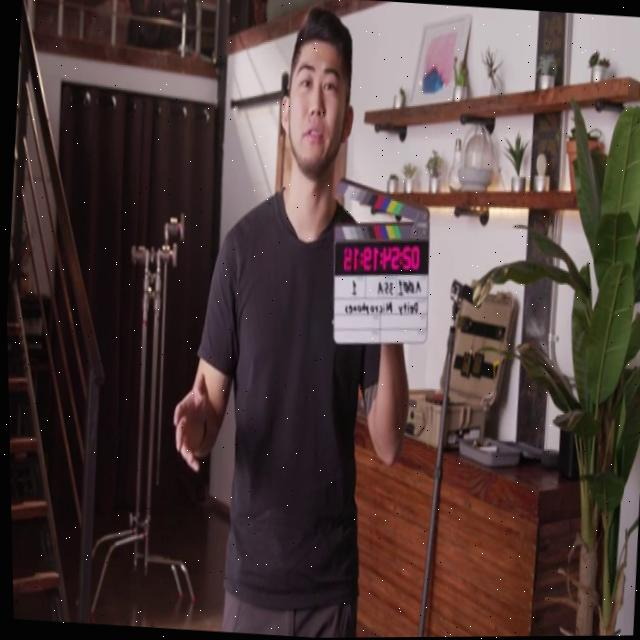Clapperboard: (326, 174, 439, 354)
